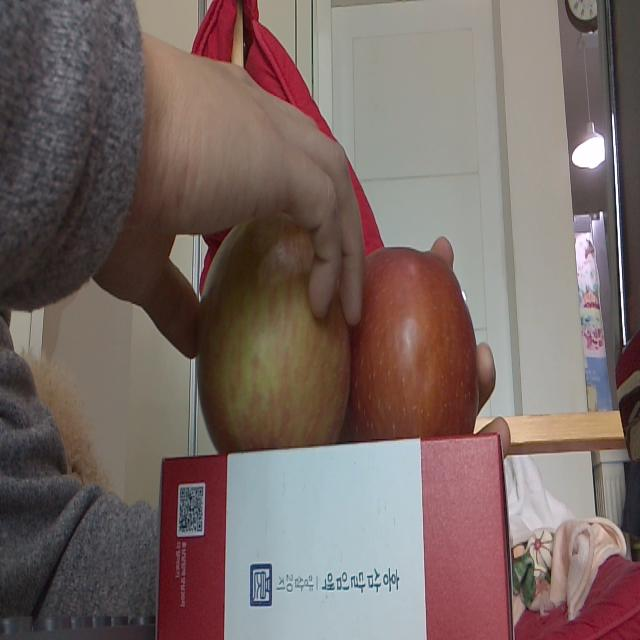apple: (192, 213, 350, 455), (350, 243, 480, 444)
